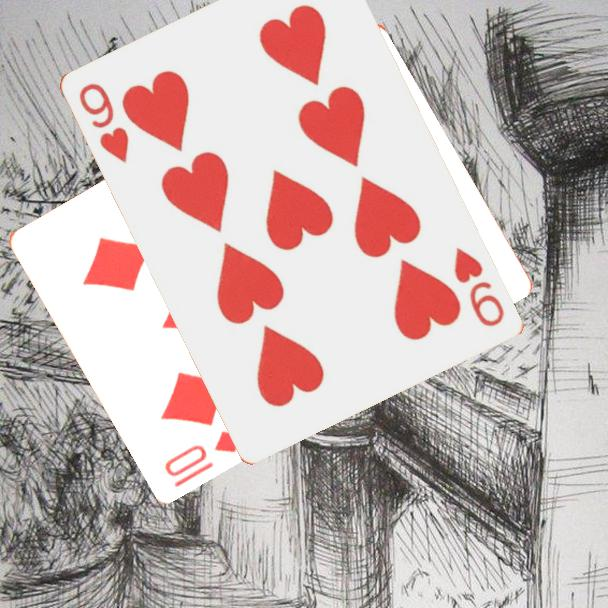d10: (161, 426, 246, 490)
h09: (76, 79, 133, 166), (451, 244, 508, 330)
